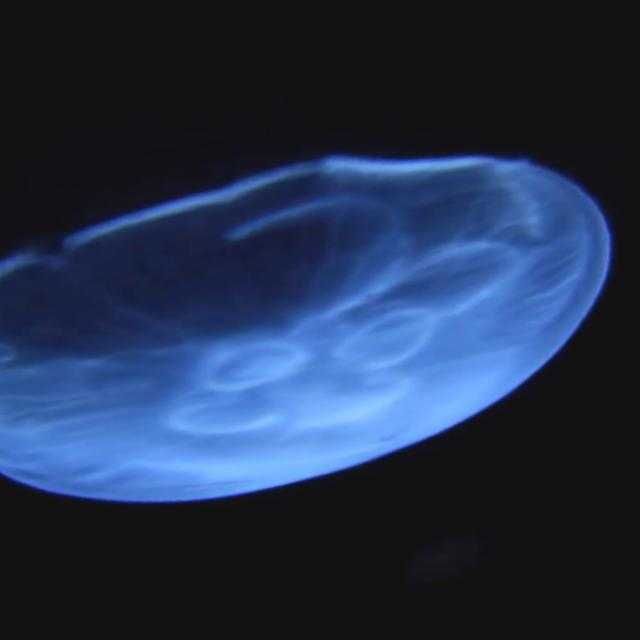Moon-jellyfish: (0, 152, 618, 506)
